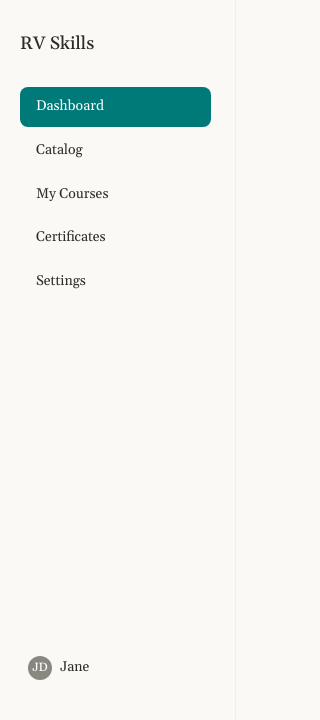
it: SidebarNav: logged in › toggles the user menu open and closed
Expected: the text "jane@rvskills.com" is not shown
Click the text "Jane" at (75, 668), box x1=60 y1=658 x2=89 y2=678
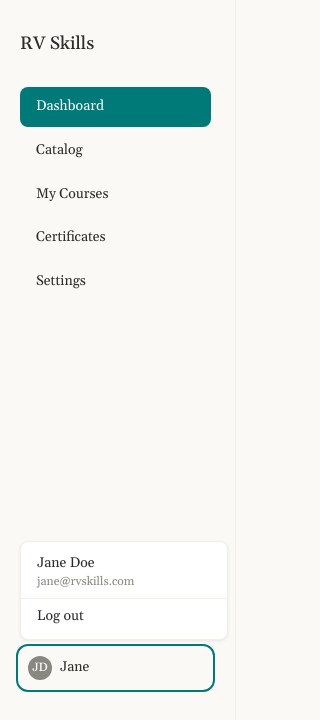
Expected: the text "jane@rvskills.com" is shown, x1=37 y1=574 x2=134 y2=589
Click the text "Jane" at (75, 668), box x1=60 y1=658 x2=89 y2=678
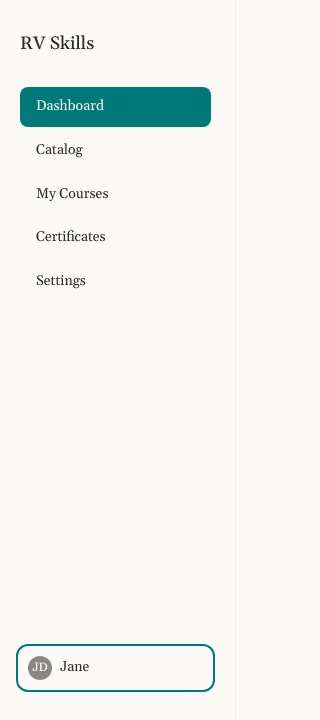
Expected: the text "jane@rvskills.com" is gone
